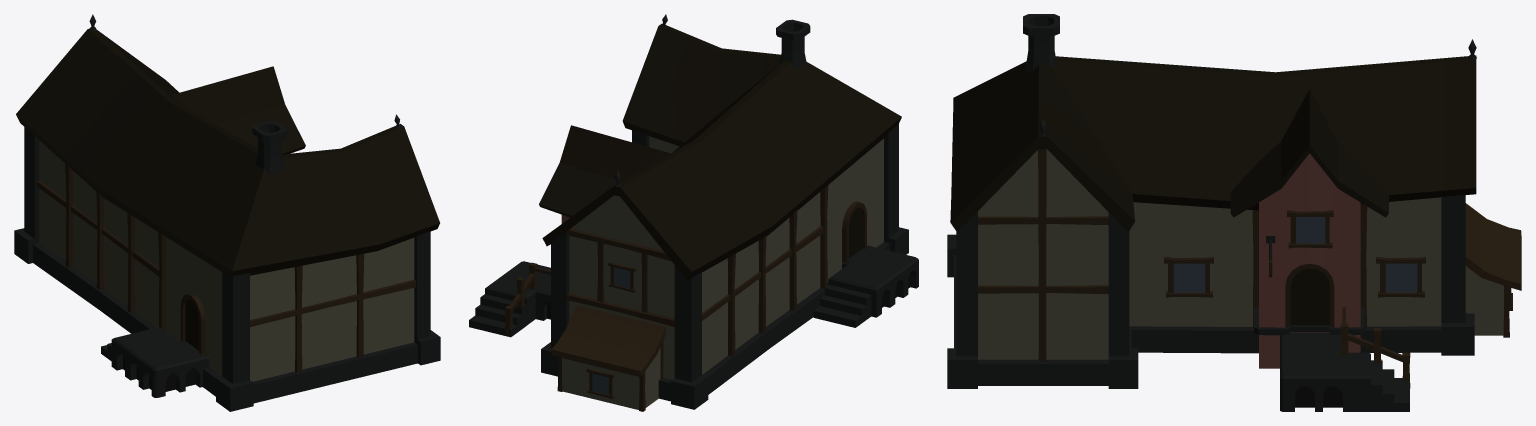
The model's file is SM_Inn.obj.
3 views of the same model, side by side, from view 1: azimuth 30°, elevation 25°; view 2: azimuth 150°, elevation 25°; view 3: azimuth 270°, elevation 25° (orthographic). The views are drawn at different scales.
Parts seen in each view (by area): view 1: SM_Inn:SM_Inn1; view 2: SM_Inn:SM_Inn1; view 3: SM_Inn:SM_Inn1.
Boxes of the visible parts, bbox=[...] form: SM_Inn:SM_Inn1: bbox=[14, 14, 440, 411]; SM_Inn:SM_Inn1: bbox=[469, 14, 918, 411]; SM_Inn:SM_Inn1: bbox=[947, 14, 1521, 411].
Size of the model in its own units: 18.6 by 14.21 by 25.55.
